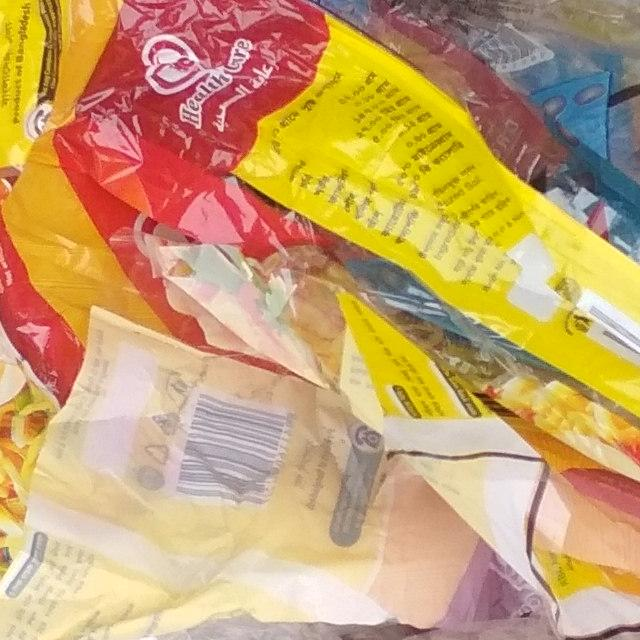plastic: (0, 0, 640, 640), (0, 293, 640, 640)
